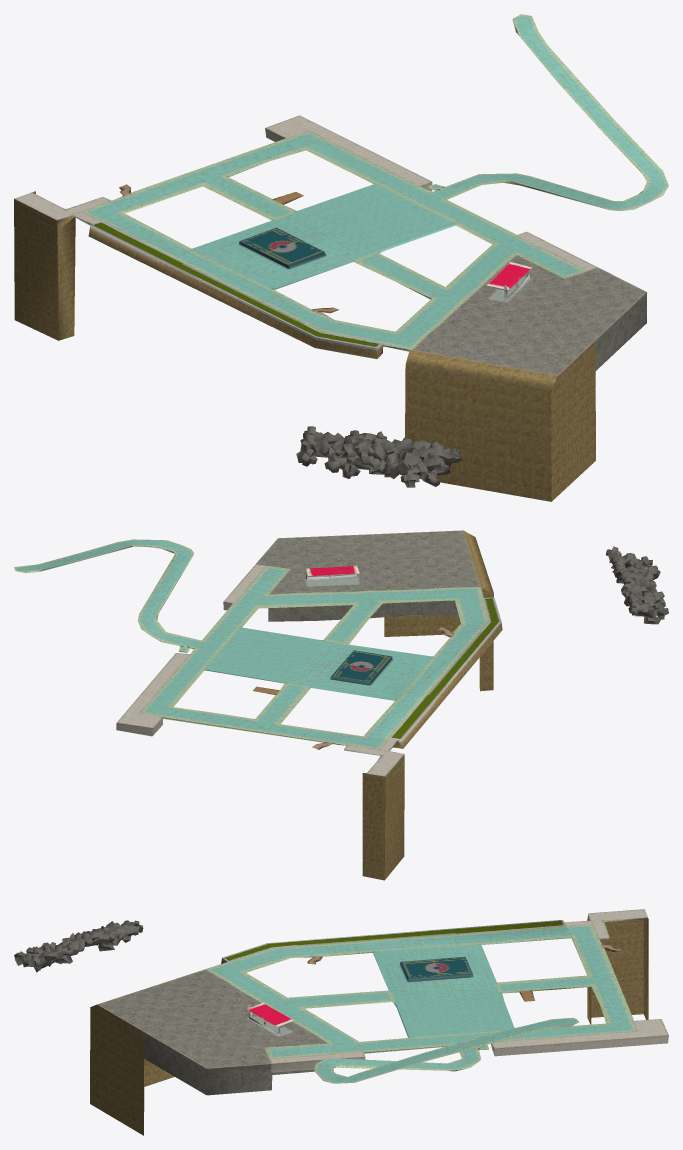
File: clod_town_t05_clod001.gltf
3 renders of one model, top to bottom at view 1: azimuth 30°, elevation 25°; view 2: azimuth 150°, elevation 25°; view 3: azimuth 270°, elevation 25°, orthographic. The views are drawn at different scales.
Visible parts, largest first — view 1: clod_town_t05_clod001_000_meshShape:remesh_mat; view 2: clod_town_t05_clod001_000_meshShape:remesh_mat; view 3: clod_town_t05_clod001_000_meshShape:remesh_mat.
Boxes of the visible parts, box(x1,y1,x2,y2) form: clod_town_t05_clod001_000_meshShape:remesh_mat: box(14, 14, 668, 501); clod_town_t05_clod001_000_meshShape:remesh_mat: box(14, 530, 668, 880); clod_town_t05_clod001_000_meshShape:remesh_mat: box(14, 909, 668, 1135).
Bounding box in the file's own units: 169 × 70.59 × 221.
1 material, 1 textured.
